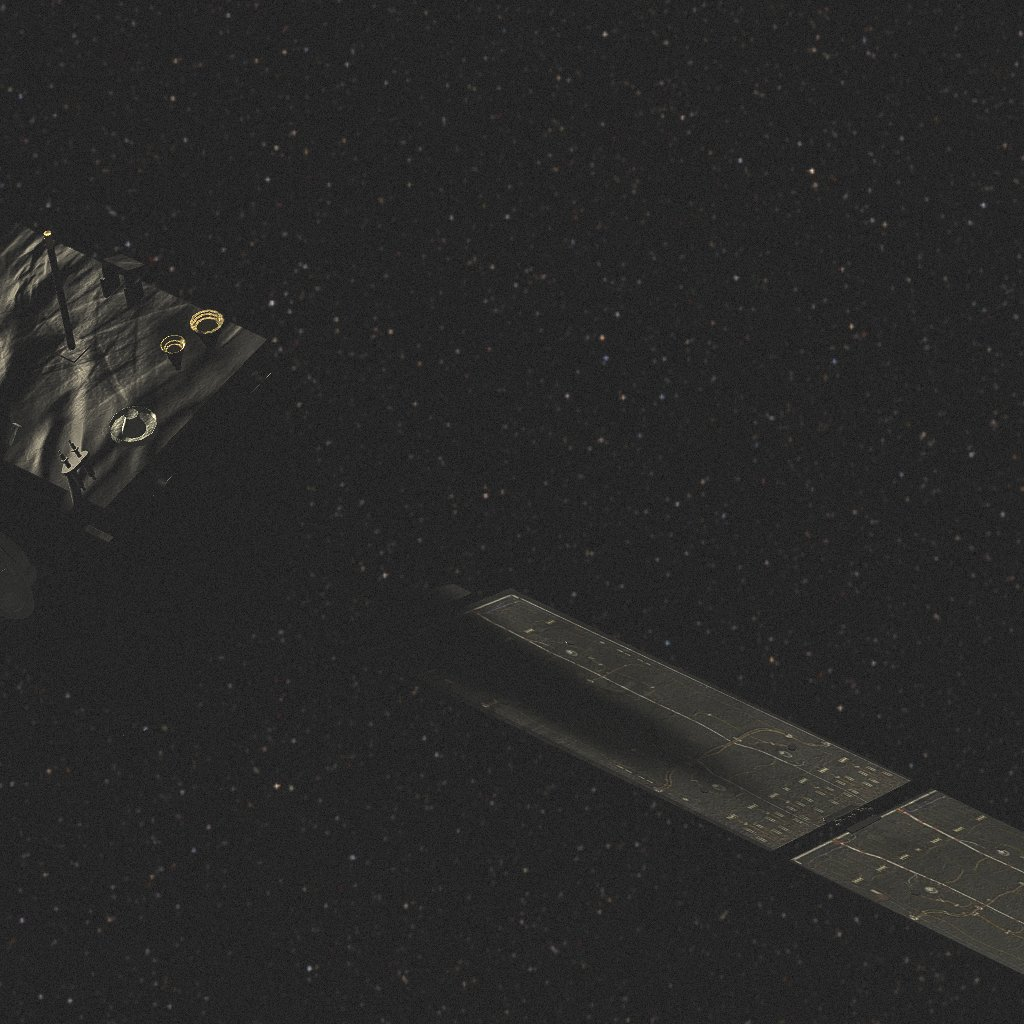smart_1: (0, 223, 1024, 980)
